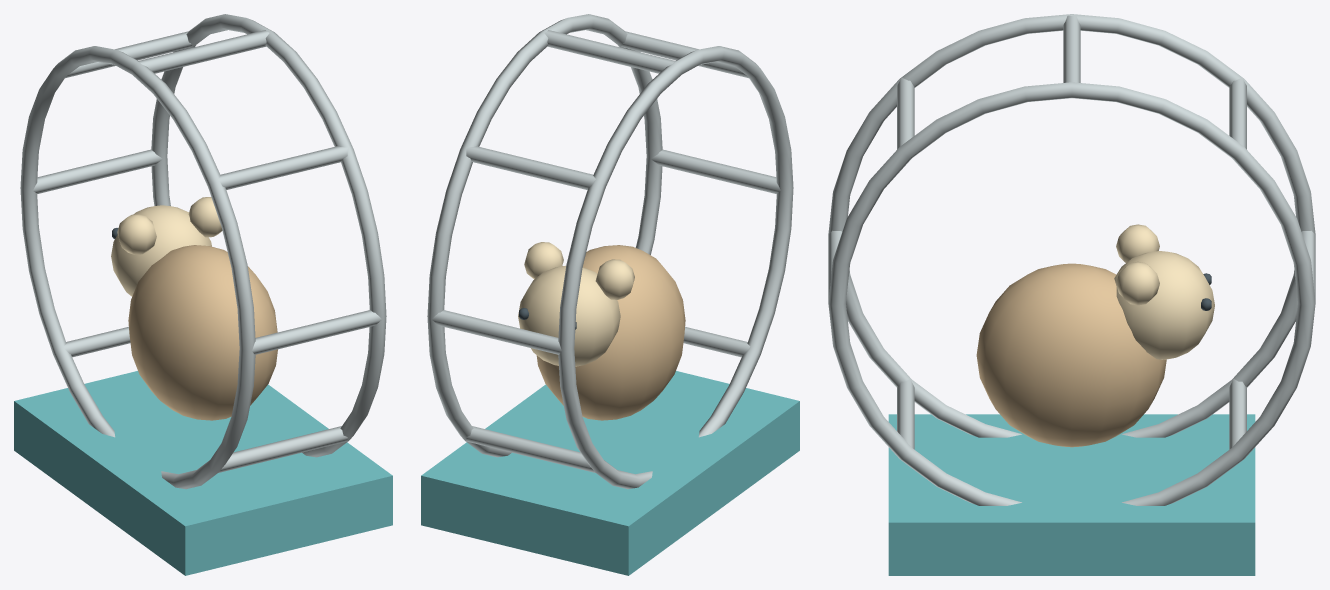
File: hamster.gltf
The picture shows the model from 3 angles, left to right: view 1: azimuth 30°, elevation 25°; view 2: azimuth 150°, elevation 25°; view 3: azimuth 270°, elevation 25°; orthographic projection. The views are drawn at different scales.
Size of the model in its own units: 0.35 by 0.712 by 0.664.
